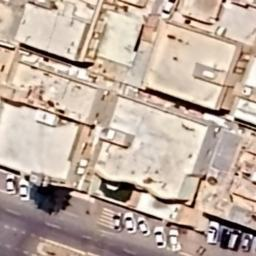SUV: (136, 216, 151, 237), (124, 211, 137, 234), (154, 226, 166, 248), (19, 180, 30, 202), (242, 232, 254, 252)
sedan: (5, 172, 16, 196), (112, 212, 122, 231)
van: (206, 220, 220, 244), (228, 228, 242, 250), (219, 228, 230, 249)
